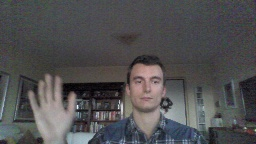Mano_aperta: (23, 70, 79, 138)
